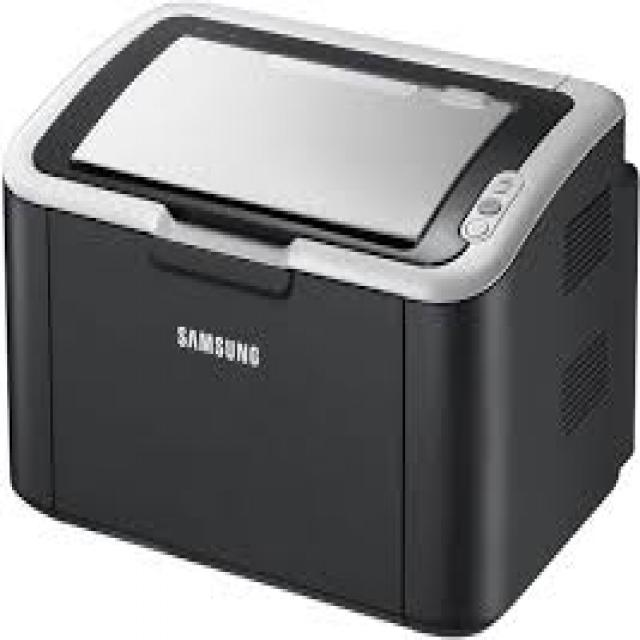printer: (1, 0, 640, 640)
